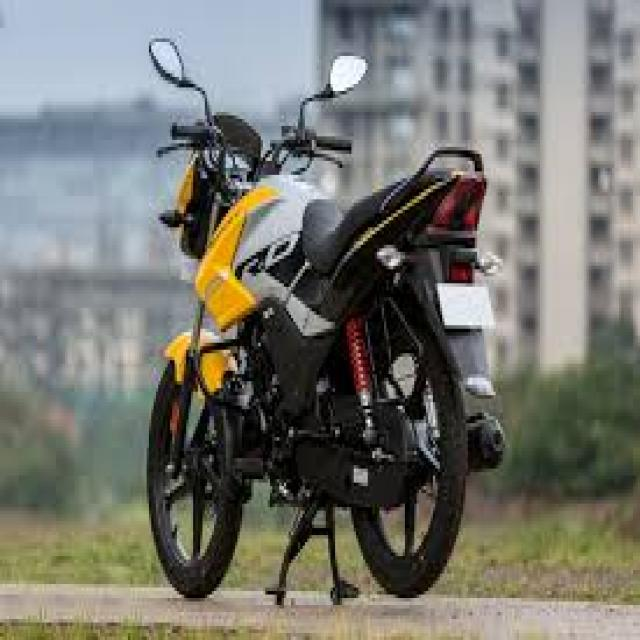Bike: (147, 39, 507, 600)
